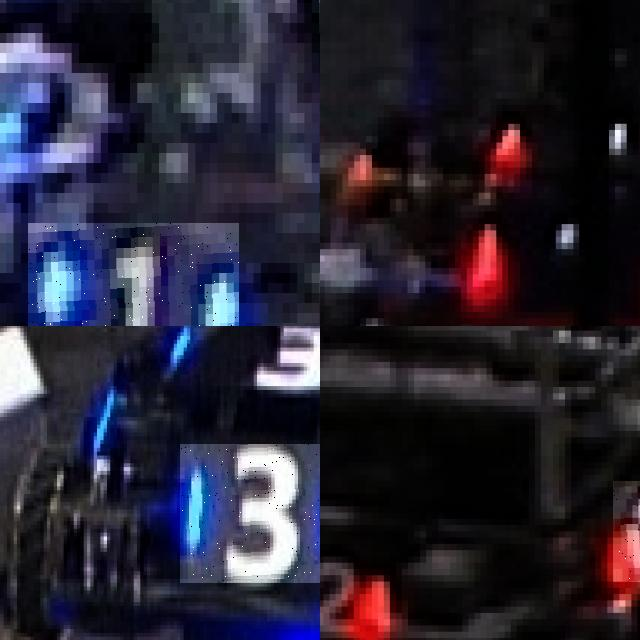B1: (28, 223, 239, 326)
B3: (180, 444, 320, 583)
R2: (320, 550, 402, 640), (613, 481, 640, 581)
